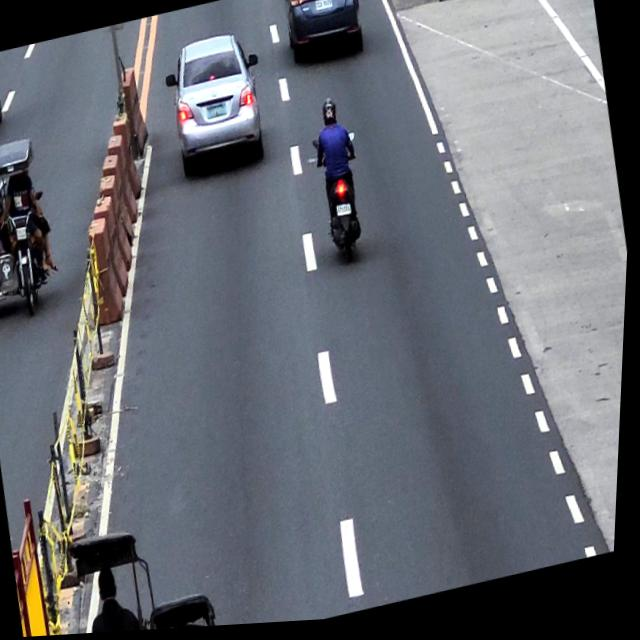Car: (158, 28, 278, 185), (277, 0, 368, 71)
License-Plate: (206, 104, 228, 121), (337, 206, 355, 222), (314, 0, 333, 15)
Motorcycle: (309, 131, 378, 272)
Tricycle: (70, 511, 229, 636)
